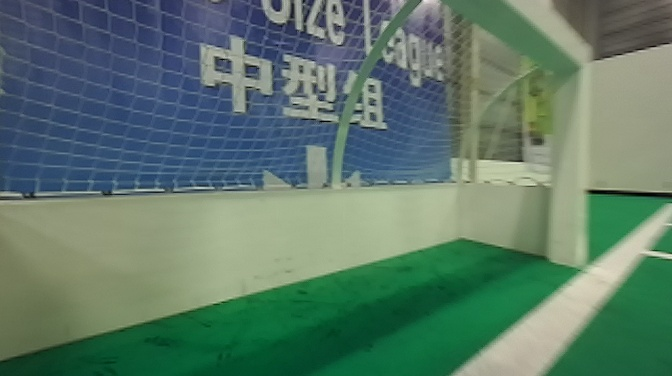goalpost: (544, 33, 598, 278)
